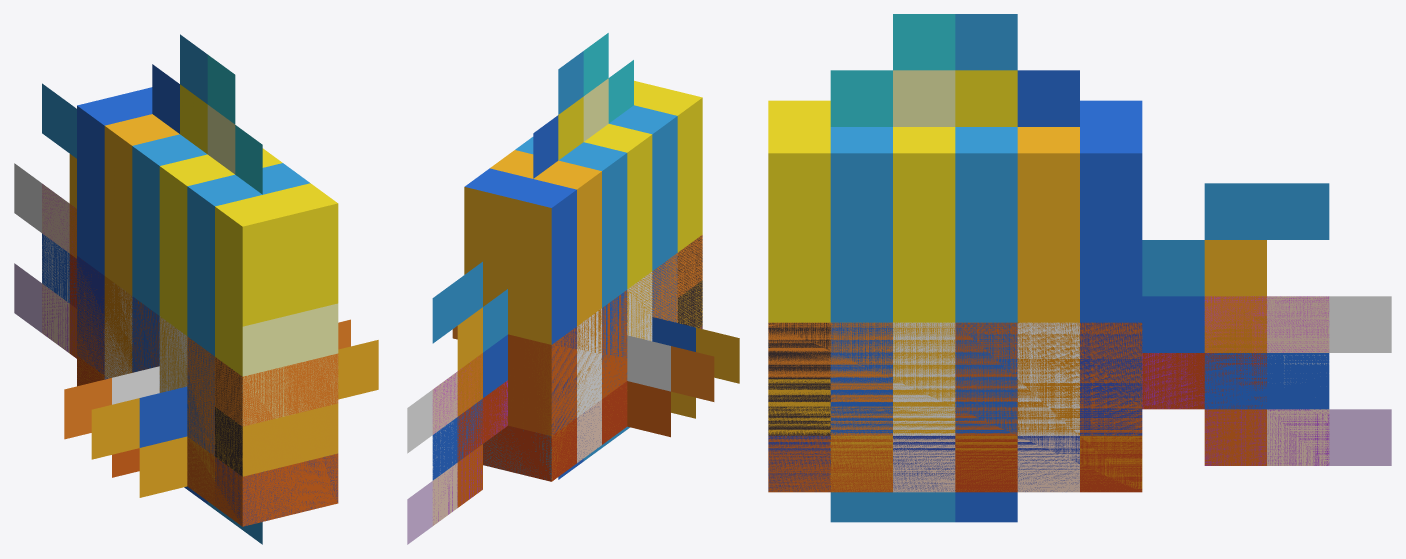
File: sl_ocean_aura.glb
The picture shows the model from 3 angles, left to right: view 1: azimuth 30°, elevation 25°; view 2: azimuth 150°, elevation 25°; view 3: azimuth 270°, elevation 25°; orthographic projection. The views are drawn at different scales.
Visible parts, largest first — view 1: bb_ocean_aura; view 2: bb_ocean_aura; view 3: bb_ocean_aura.
Part boxes in pixels (<box>): bb_ocean_aura: <box>14,34,378,544</box>; bb_ocean_aura: <box>407,33,739,544</box>; bb_ocean_aura: <box>768,14,1391,522</box>.
Bounding box in the file's own units: 0.375 × 0.5625 × 0.625.
1 material, 1 textured.
